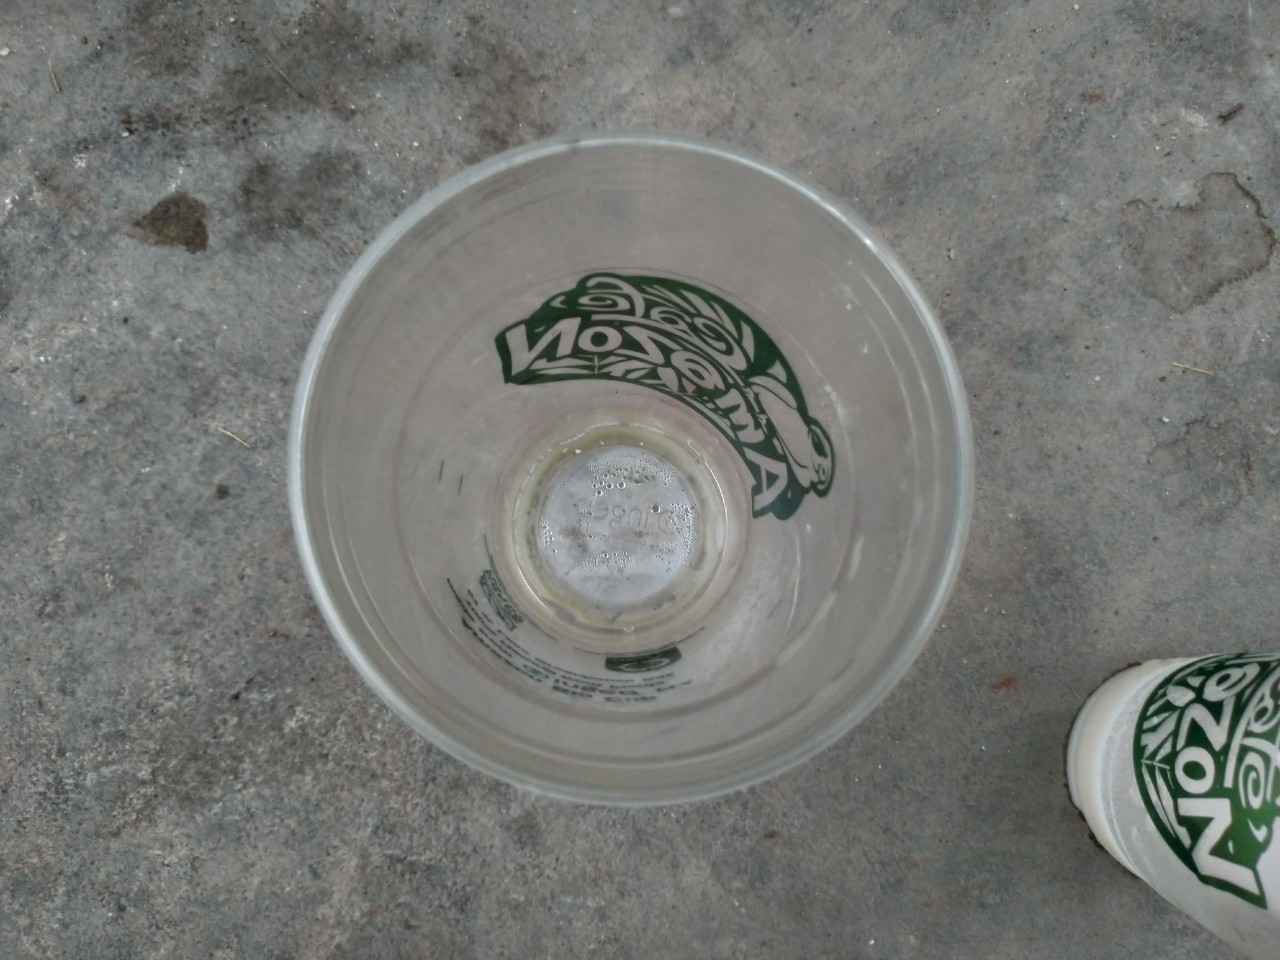PlasticCup: (285, 125, 979, 808), (1057, 640, 1279, 960)
